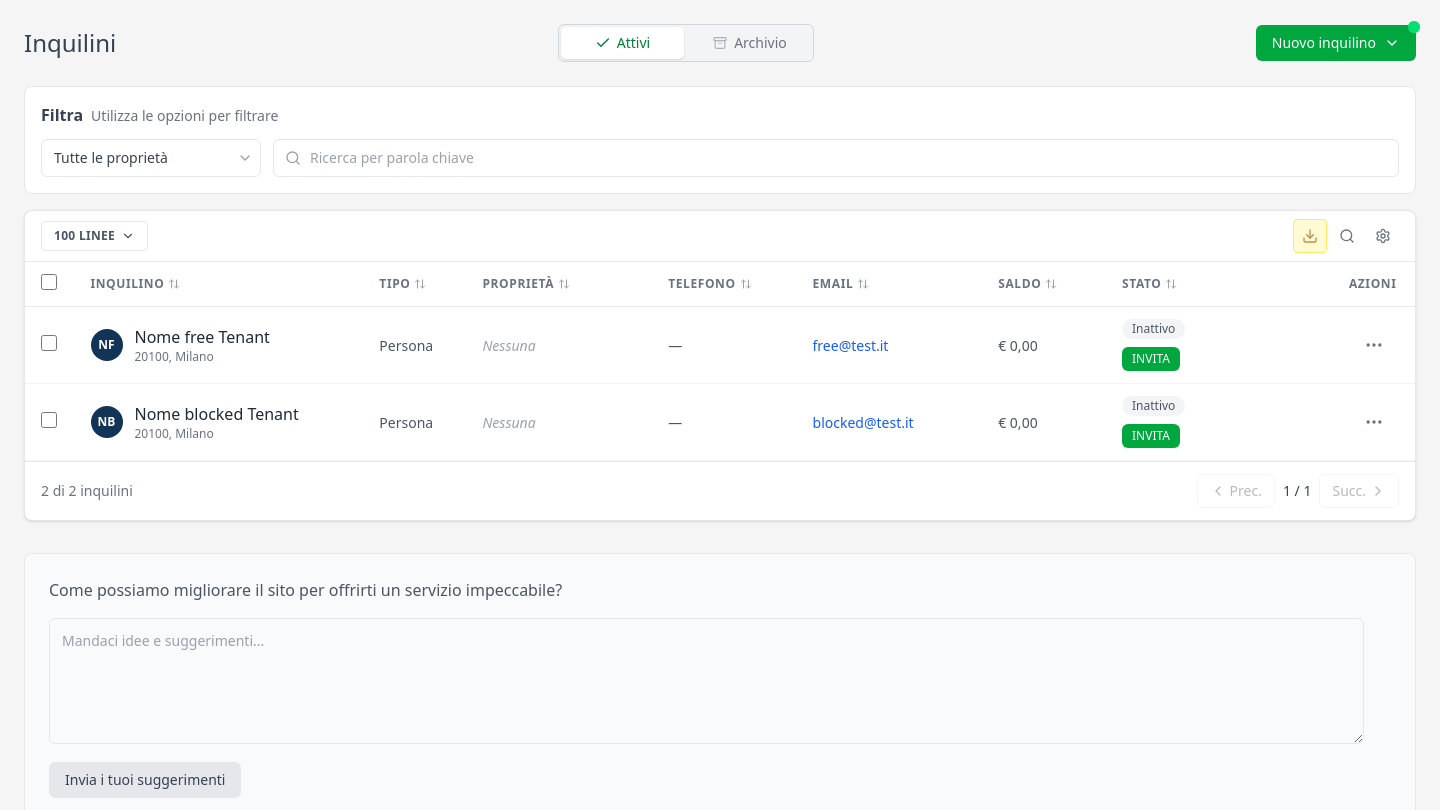
Test: C5.4 lifecycle reale TenantsPage › bulk delete lease blocker resta atomico e conserva UI
The image size is (1440, 810).
Click the checkbox next to "NF" at (49, 343), box [41,335,57,351]
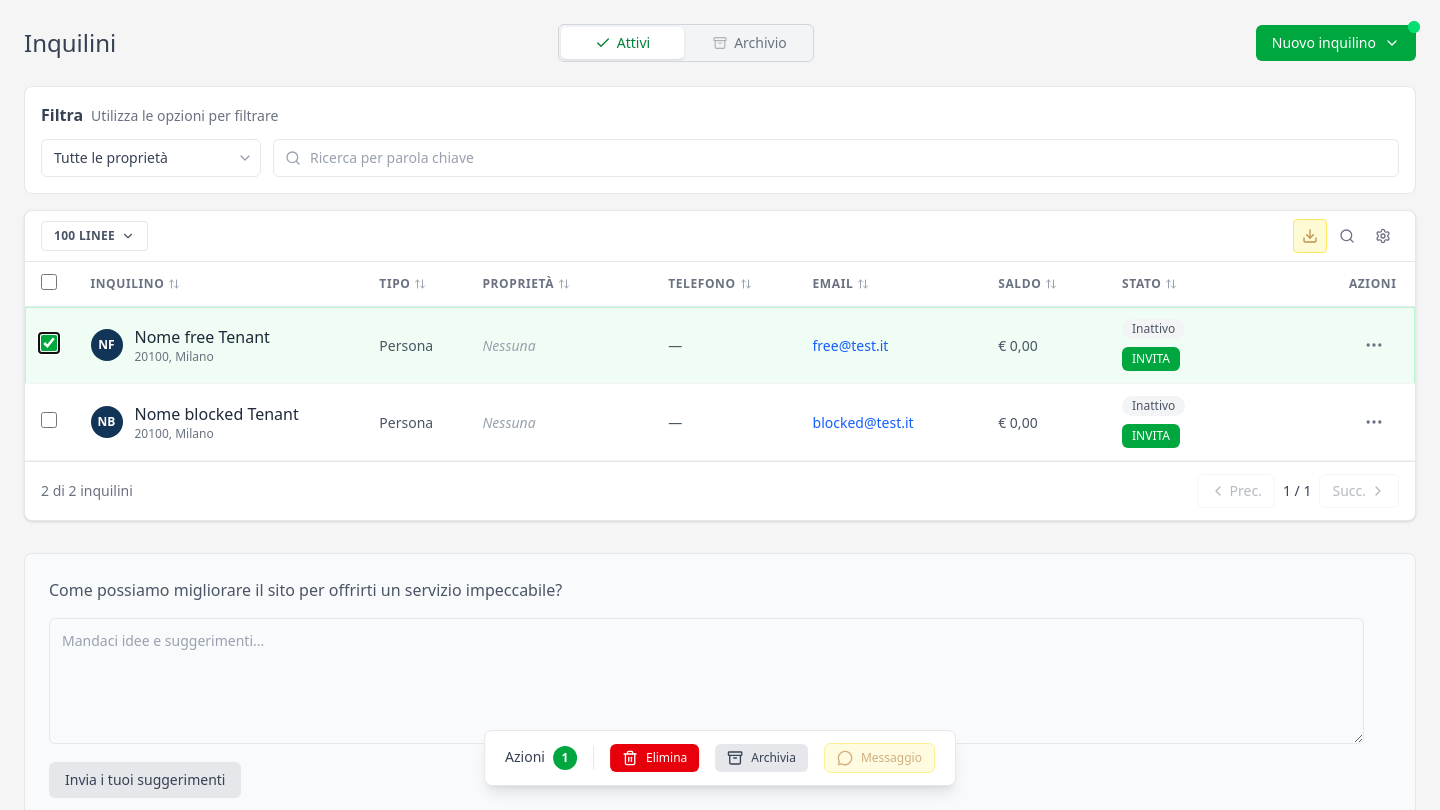
Click the checkbox next to "NB" at (49, 420), box [41,412,57,428]
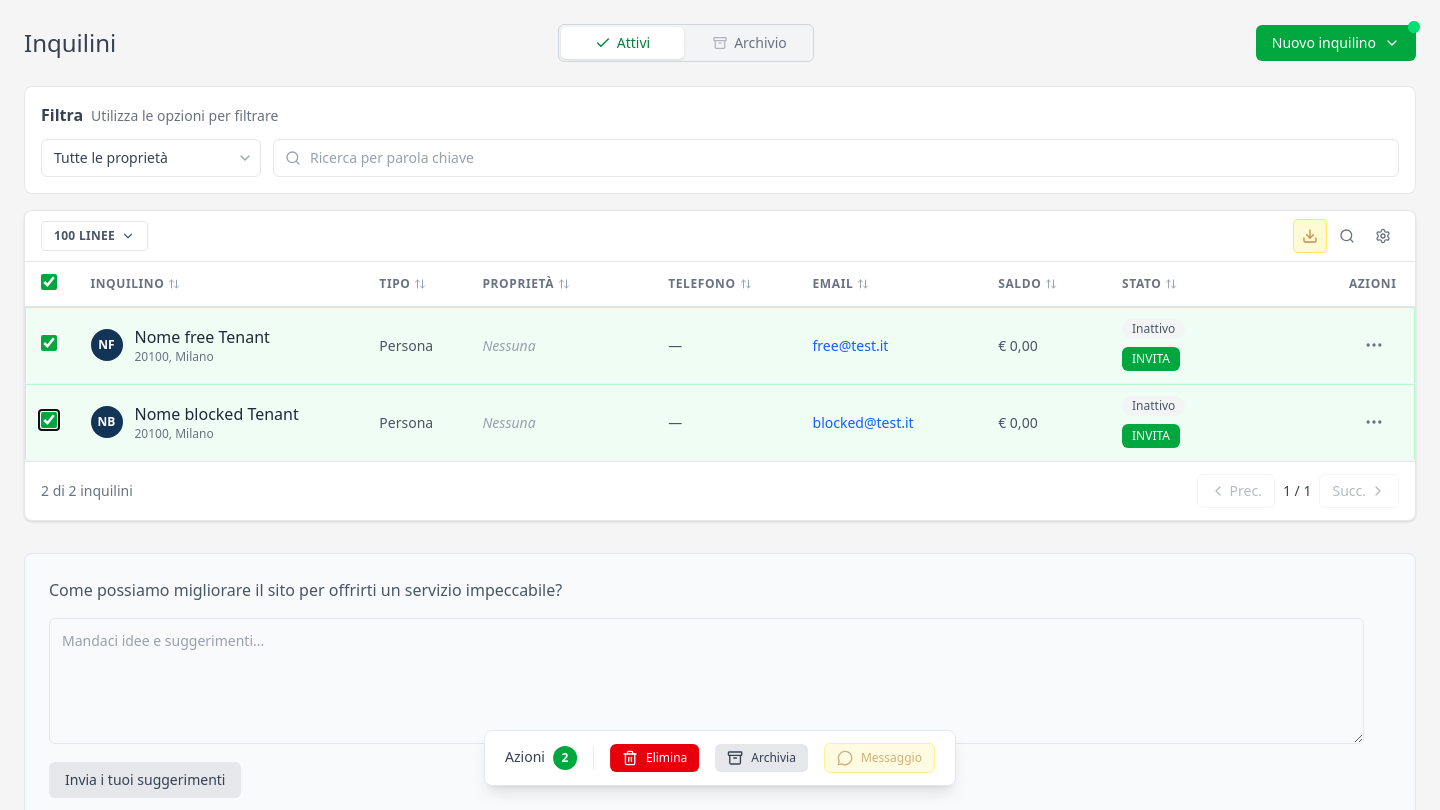
Click the button "Elimina" at (655, 758), box [610,744,699,772]
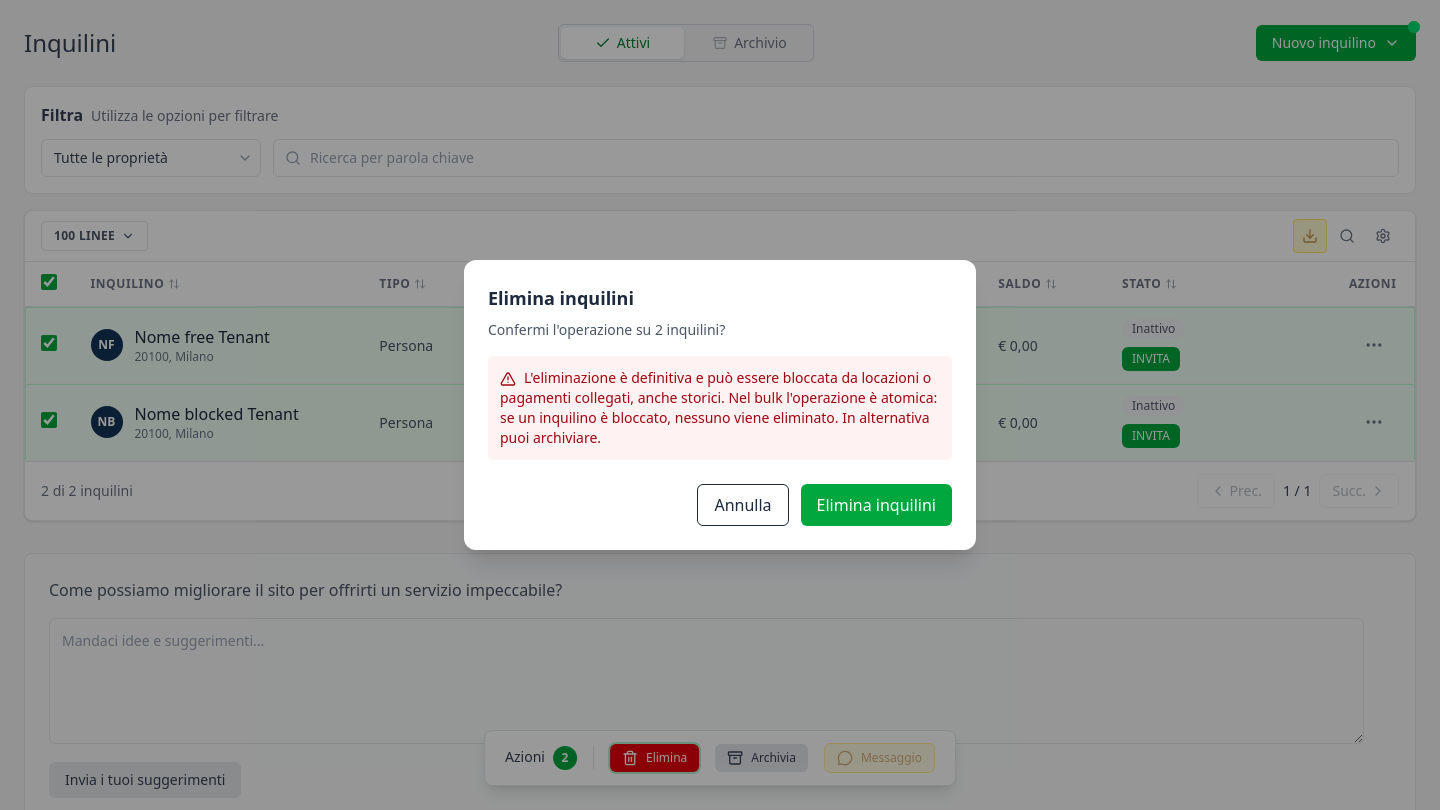
Click the button "Elimina inquilini" at (876, 505), box [801,484,952,526]
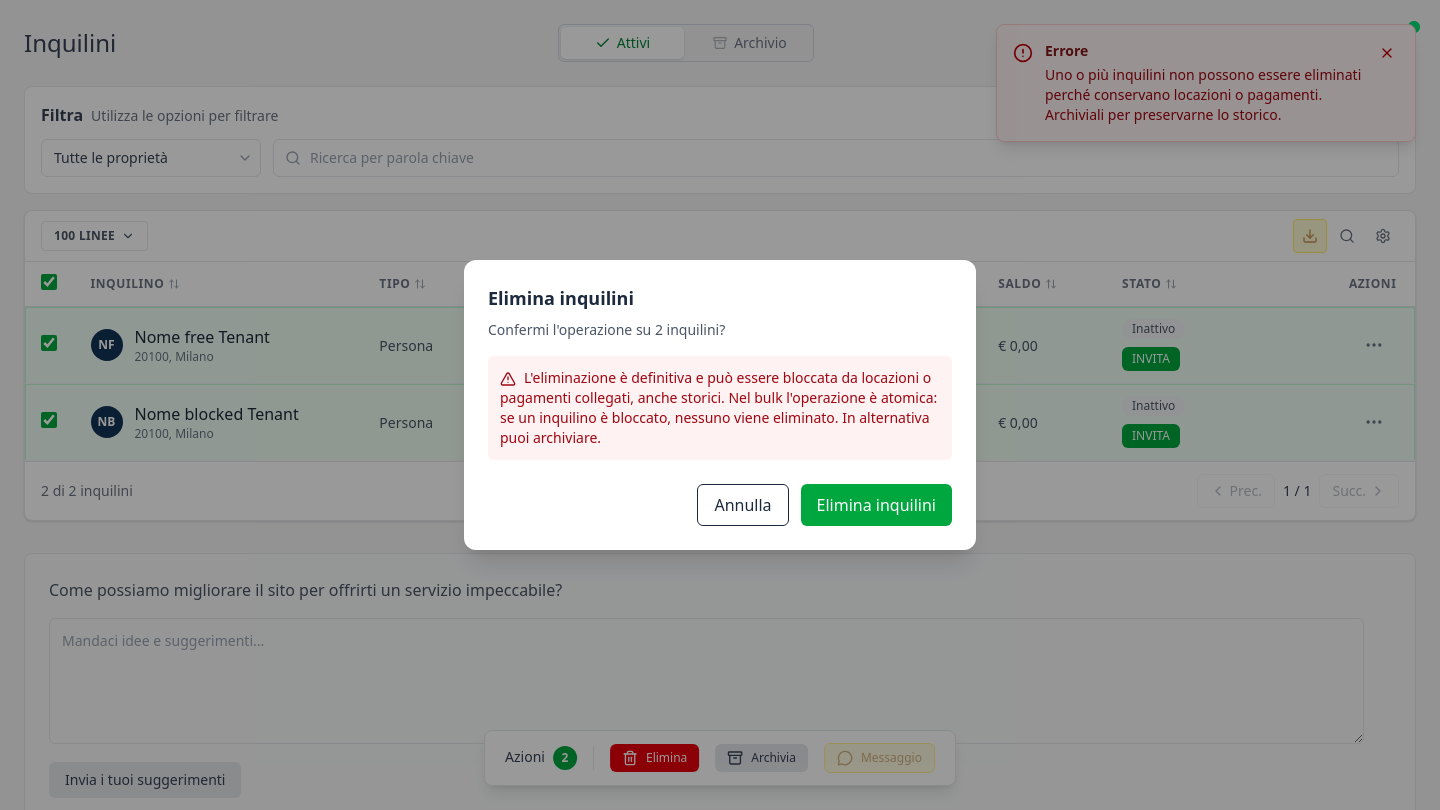
Expected: the dialog is shown
Expected: the message is shown, [996,24,1416,142]
